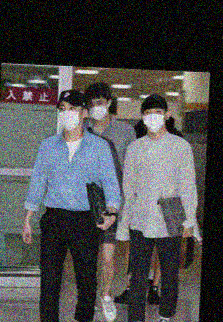with_mask: (57, 100, 82, 131), (142, 107, 166, 132), (86, 96, 109, 120)
